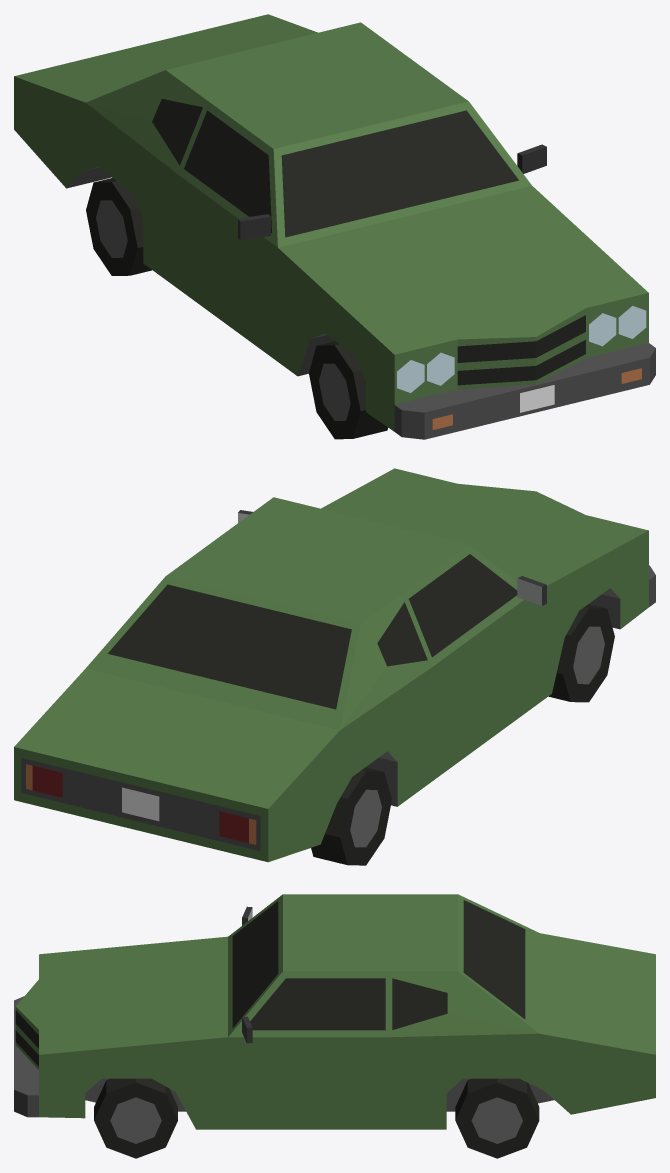
File: Veh_Muscle_Car_02_Green.obj
3 renders of one model, top to bottom at view 1: azimuth 30°, elevation 25°; view 2: azimuth 150°, elevation 25°; view 3: azimuth 270°, elevation 25°, orthographic. The views are drawn at different scales.
Bounding box in the file's own units: 1.18 × 0.8001 × 2.65.
